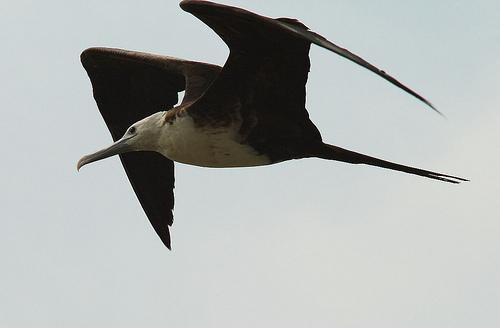bird: (76, 1, 469, 251)
